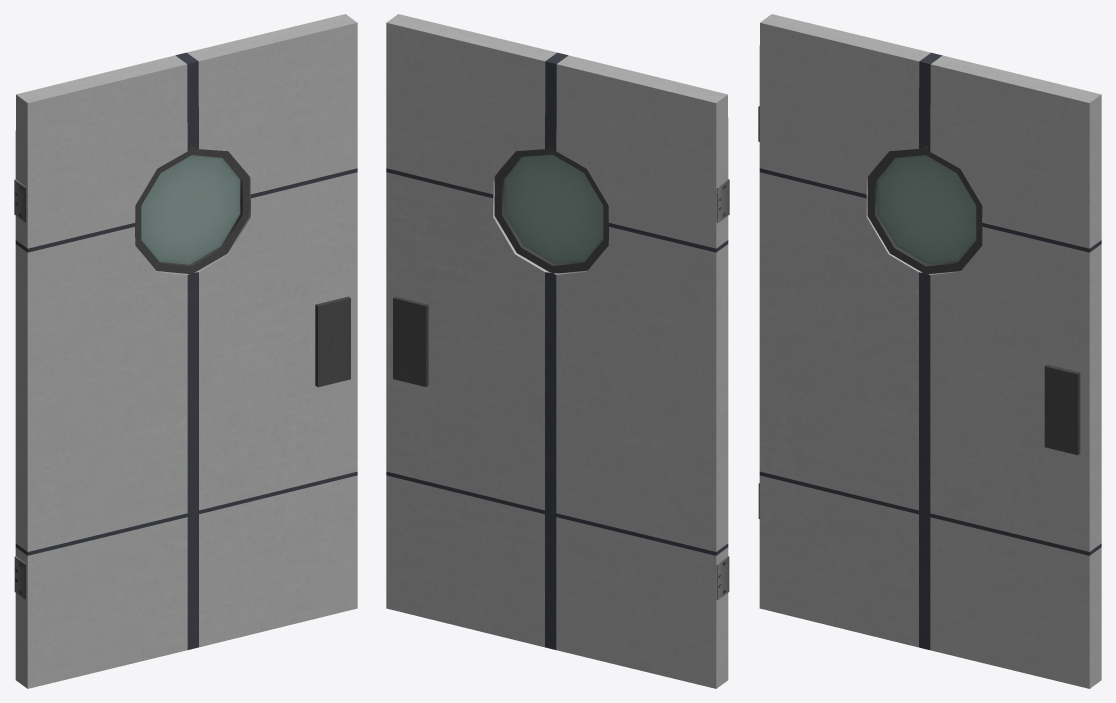
The model's file is p6_door_hijacked_white_lod2.glb.
3 views of the same model, side by side, from view 1: azimuth 30°, elevation 25°; view 2: azimuth 150°, elevation 25°; view 3: azimuth 330°, elevation 25° (orthographic).
Visible parts, largest first — view 1: surf0, surf3, surf2, surf1, surf4; view 2: surf0, surf3, surf2, surf1, surf4; view 3: surf0, surf3, surf2, surf1.
Boxes of the visible parts, left/top/right/bottom form: surf0: left=15, top=14, right=357, bottom=688; surf3: left=141, top=155, right=240, bottom=264; surf2: left=15, top=52, right=357, bottom=649; surf1: left=135, top=146, right=350, bottom=387; surf4: left=14, top=179, right=27, bottom=599; surf0: left=386, top=14, right=728, bottom=688; surf3: left=504, top=154, right=603, bottom=264; surf2: left=386, top=52, right=728, bottom=649; surf1: left=393, top=146, right=608, bottom=386; surf4: left=716, top=179, right=729, bottom=599; surf0: left=759, top=14, right=1101, bottom=688; surf3: left=877, top=155, right=976, bottom=264; surf2: left=759, top=52, right=1101, bottom=649; surf1: left=867, top=146, right=1080, bottom=455.
Size of the model in its own units: 60.15 by 102 by 5.32.
